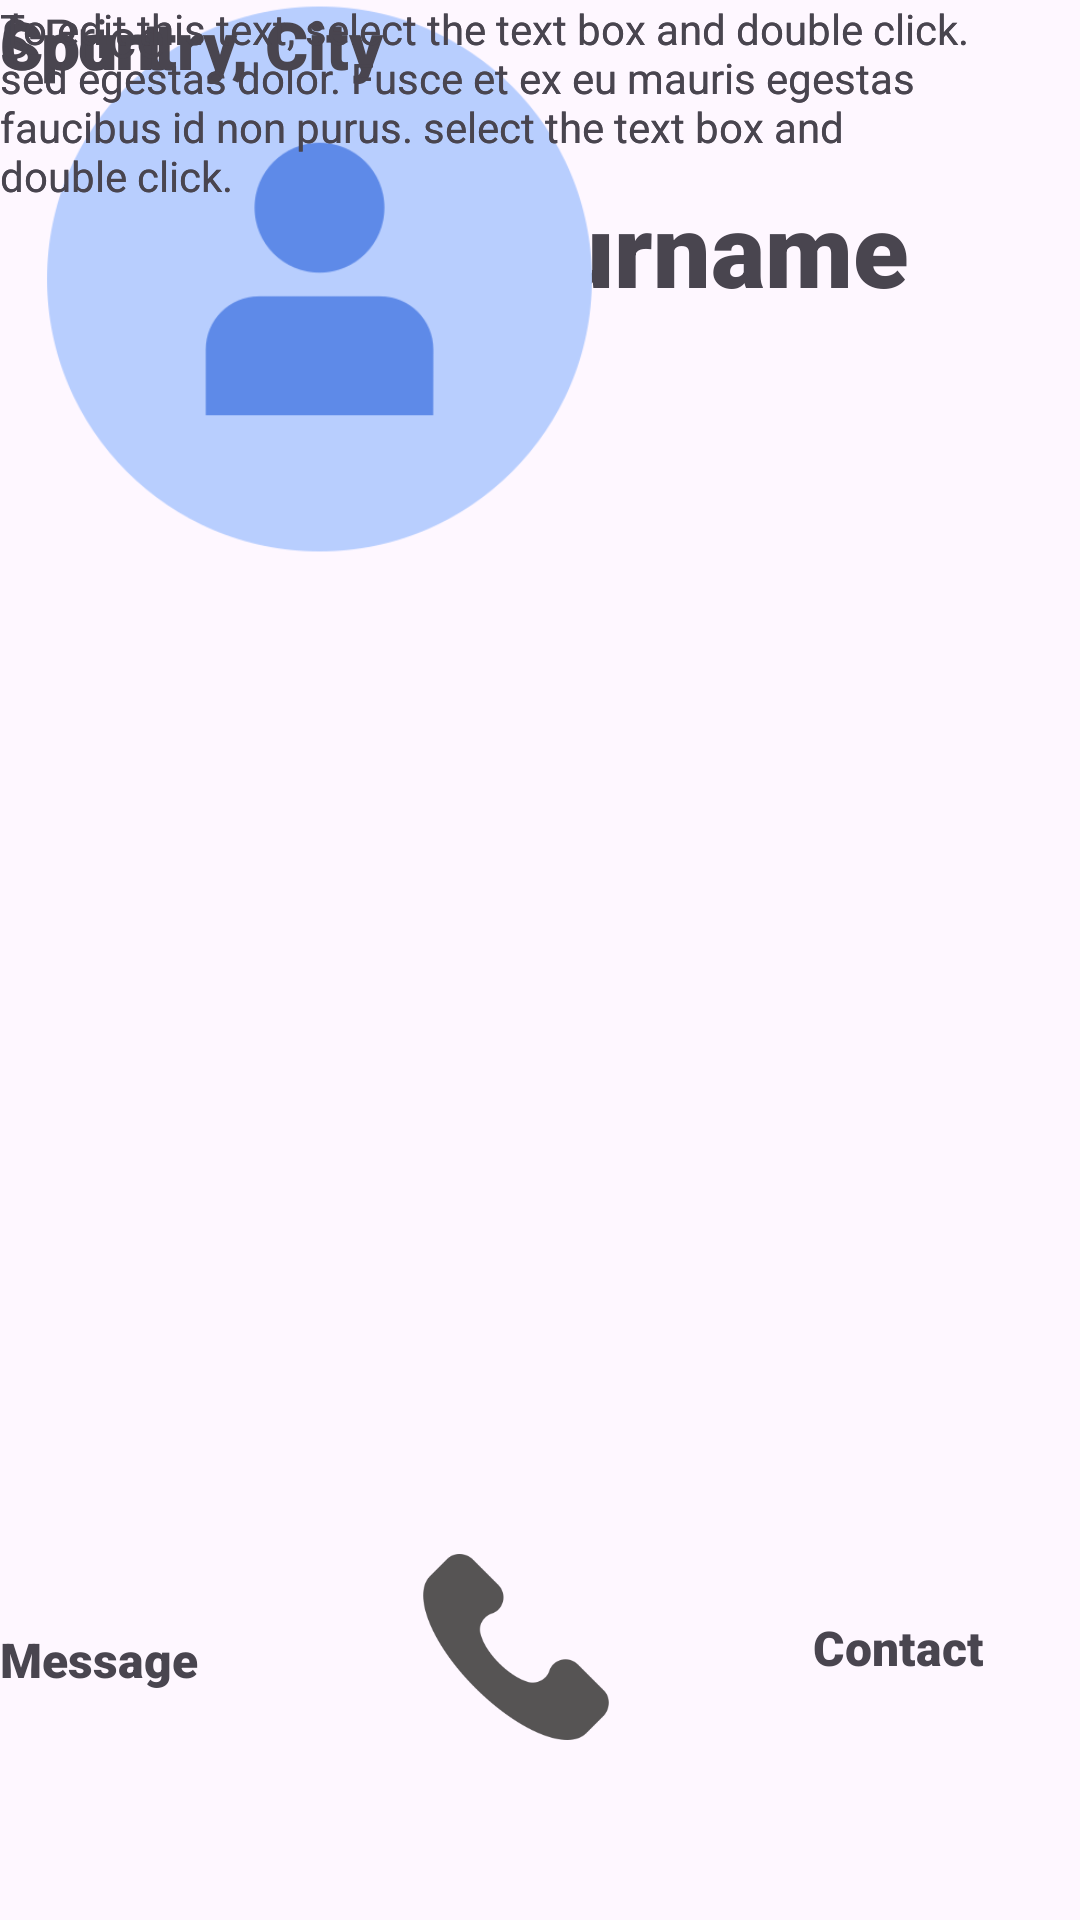

Screen size 1080×1920. Icon name, then its box in pixels as bbox=(x1, y1, x2, y2):
phone: bbox=(423, 1554, 609, 1740)
